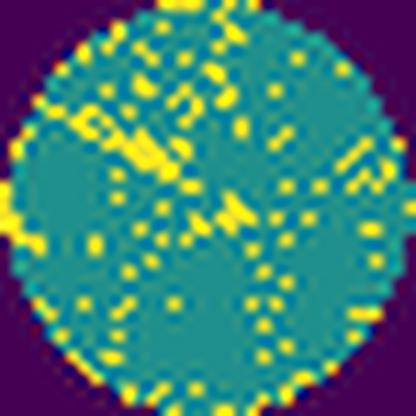Loc: (62, 106, 180, 179), (214, 187, 258, 240)
